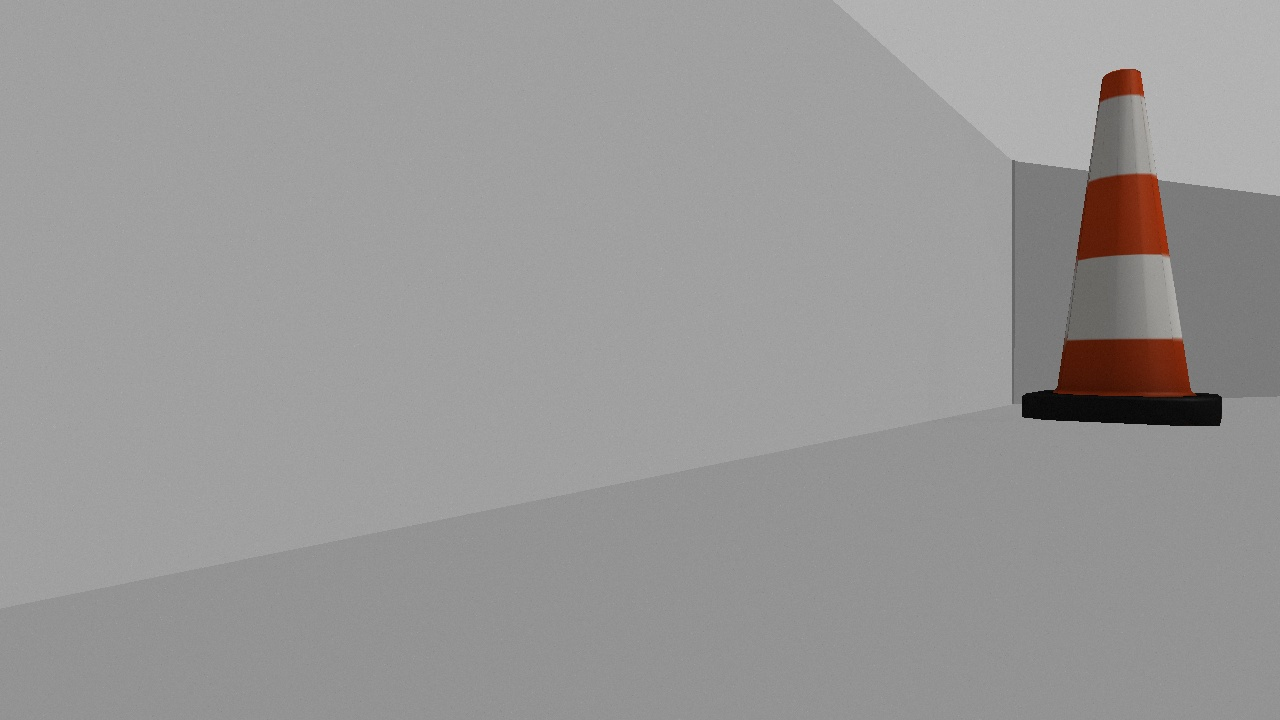barricade: (1000, 53, 1239, 442)
